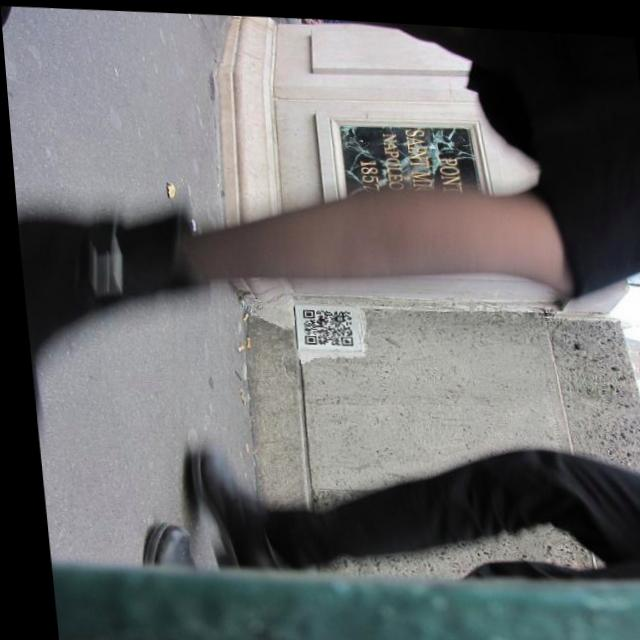qrcode: (296, 306, 348, 343)
